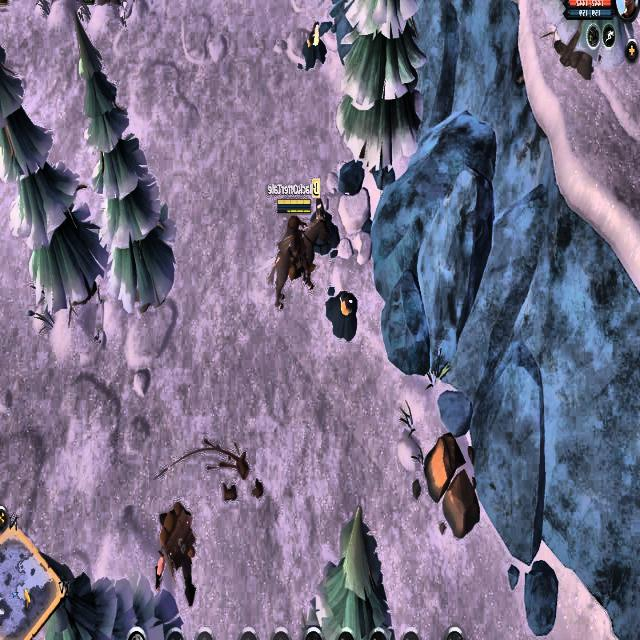copperore: (328, 282, 359, 342), (300, 19, 329, 67)
limestone: (428, 431, 485, 543)
